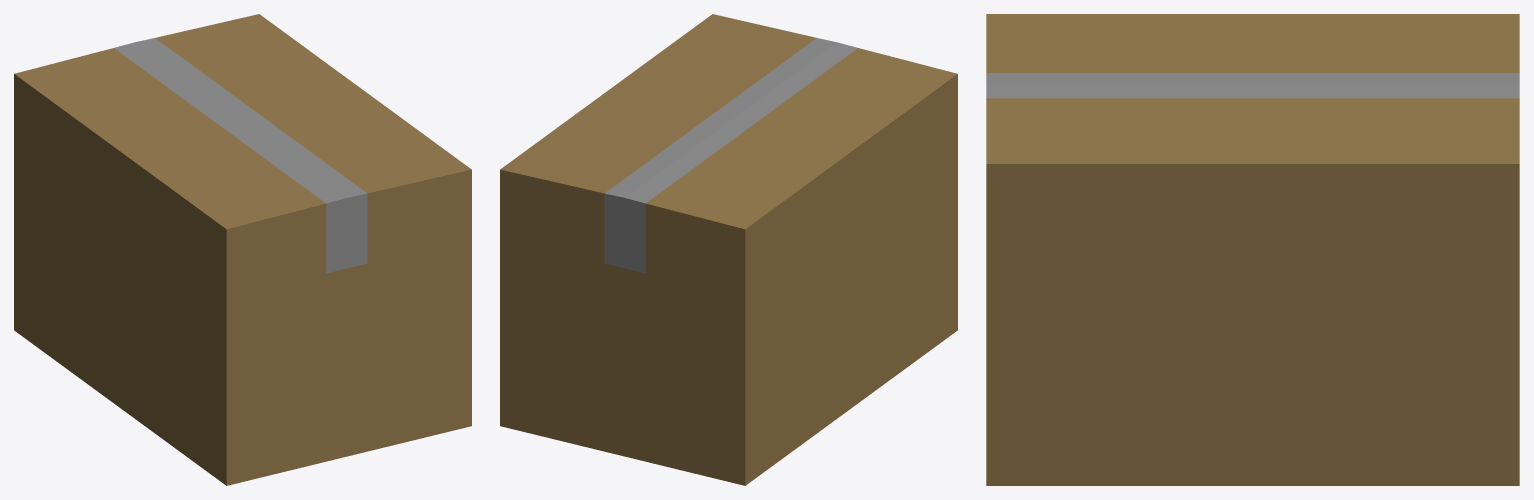
File: cardboardBoxRectangleTape.fbx
3 views of the same model, side by side, from view 1: azimuth 30°, elevation 25°; view 2: azimuth 150°, elevation 25°; view 3: azimuth 270°, elevation 25° (orthographic). The views are drawn at different scales.
Visible parts, largest first — view 1: Cube; view 2: Cube; view 3: Cube.
Boxes of the visible parts, <box> form: Cube: <box>14,14,471,485</box>; Cube: <box>500,14,957,485</box>; Cube: <box>986,14,1519,485</box>.
Bounding box in the file's own units: 200 × 202 × 300.
